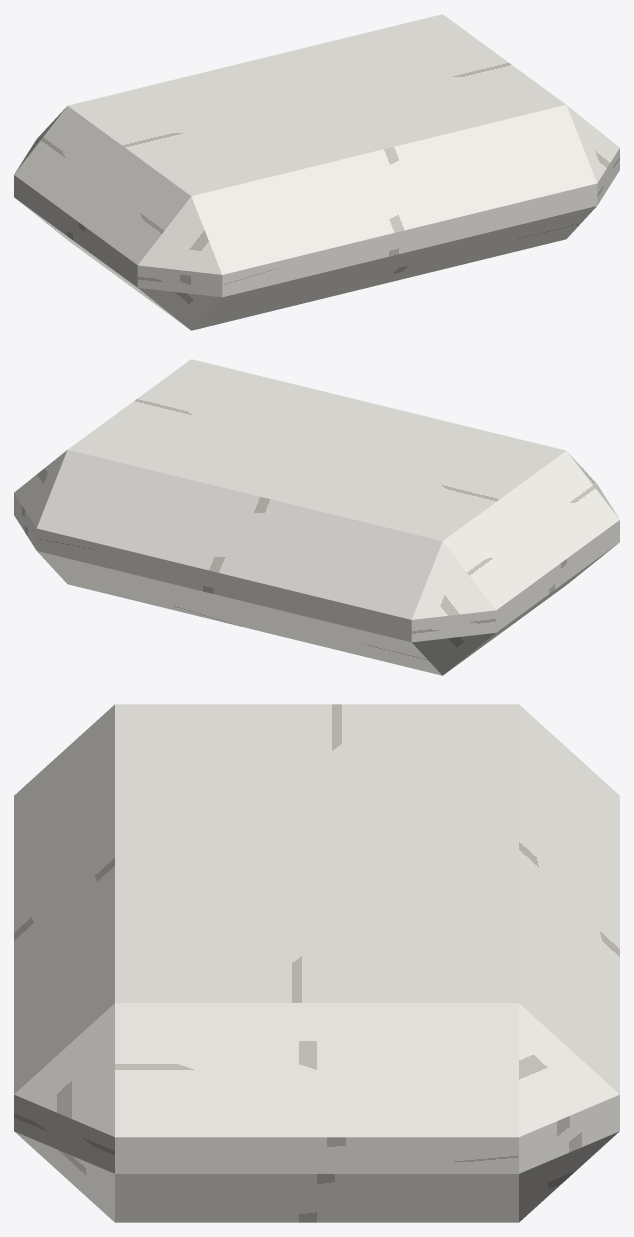
Rendered from soap.glb.
The picture shows the model from 3 angles, top to bottom: view 1: azimuth 30°, elevation 25°; view 2: azimuth 150°, elevation 25°; view 3: azimuth 270°, elevation 25°; orthographic projection. The views are drawn at different scales.
Parts seen in each view (by area): view 1: block_bar; view 2: block_bar; view 3: block_bar.
Part boxes in pixels (x1,y1,x2,y2): block_bar: (14, 14, 619, 330); block_bar: (14, 359, 619, 675); block_bar: (14, 704, 619, 1222).
Bounding box in the file's own units: 0.09 × 0.024 × 0.06.
Materials: 1 (1 with a texture image).
